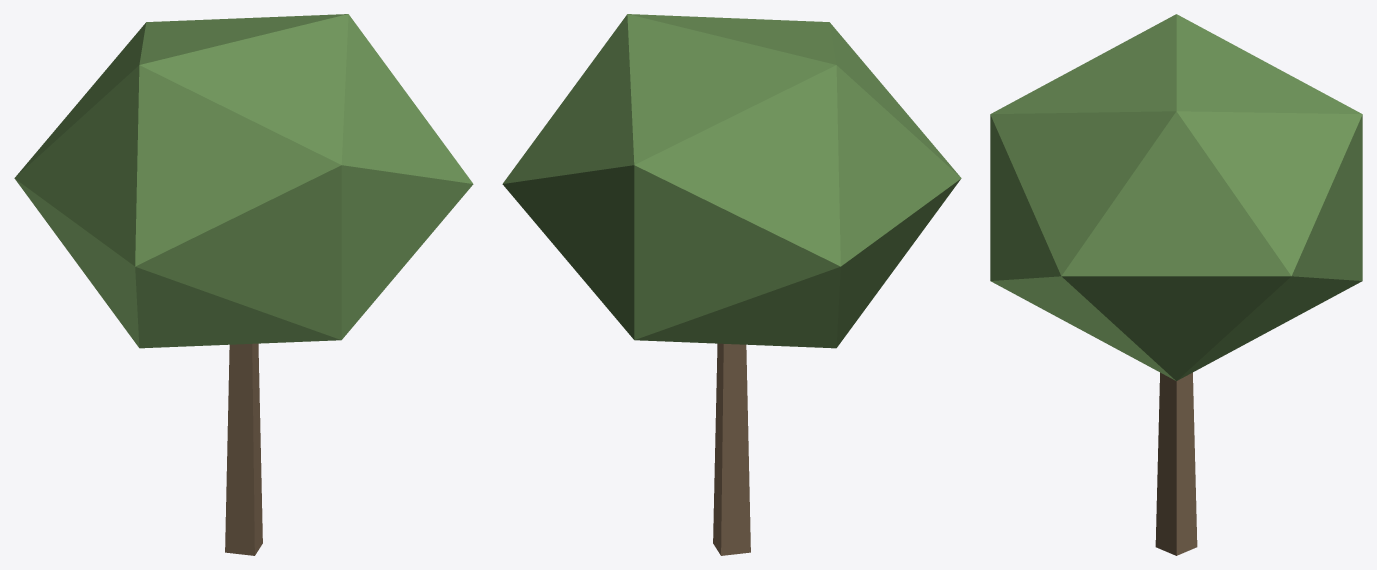
Rendered from broadleaf_far.glb.
The picture shows the model from 3 angles, left to right: view 1: azimuth 30°, elevation 25°; view 2: azimuth 150°, elevation 25°; view 3: azimuth 270°, elevation 25°; orthographic projection. The views are drawn at different scales.
Parts seen in each view (by area): view 1: broadleaf; view 2: broadleaf; view 3: broadleaf.
Part boxes in pixels (x1,y1,x2,y2): broadleaf: (14,14,473,555); broadleaf: (502,14,961,555); broadleaf: (990,14,1362,555).
Size of what is drawn, in the model's own units: 3.57 by 5.13 by 3.57.
